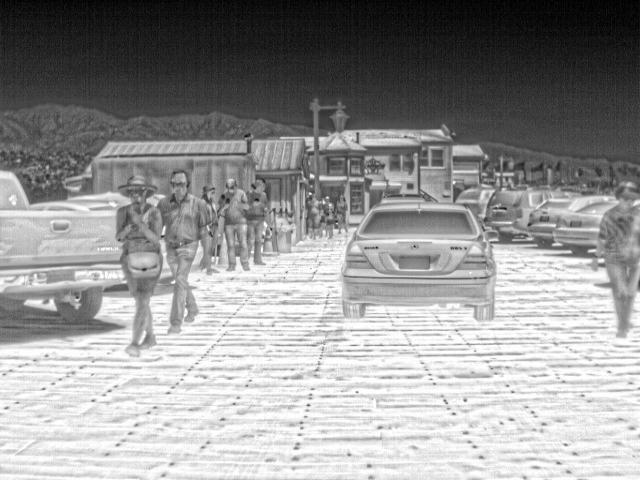car: (1, 169, 130, 324), (339, 202, 499, 322), (482, 185, 578, 241), (527, 194, 611, 250), (552, 200, 616, 255), (454, 186, 494, 220), (31, 197, 119, 212), (380, 192, 430, 204)
person: (155, 168, 215, 334), (115, 175, 163, 358), (596, 180, 639, 338), (220, 178, 253, 270), (198, 181, 226, 273), (247, 178, 271, 264), (305, 191, 324, 240), (321, 194, 337, 239)
